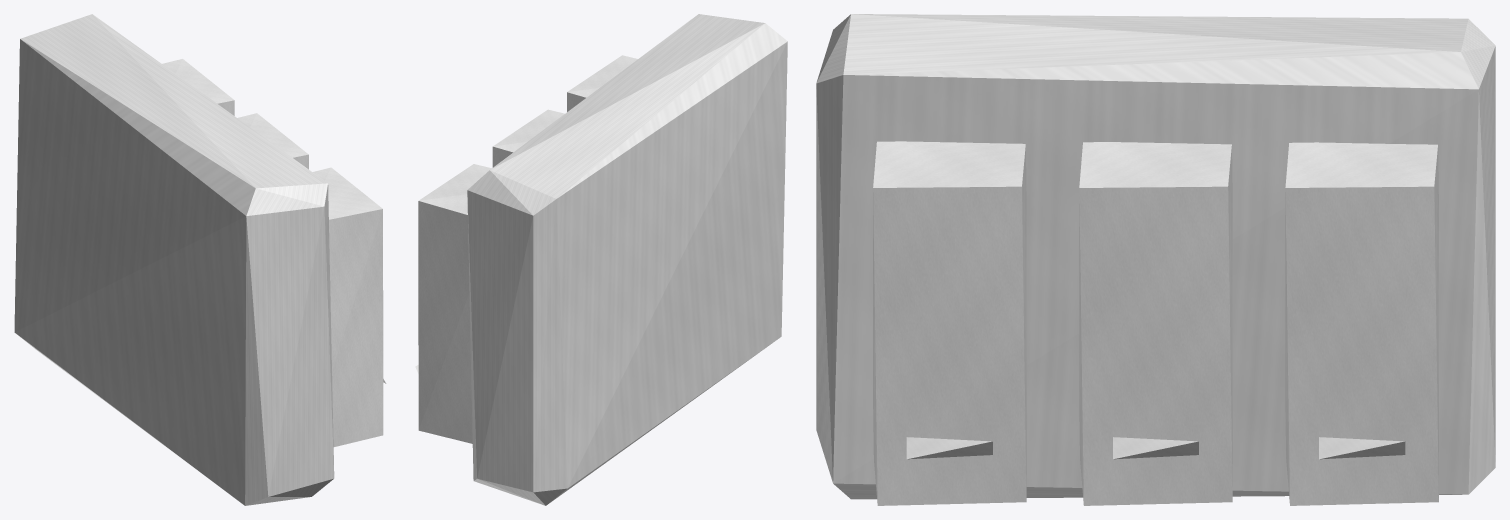
File: Field_Medic_Cartridge_Rack_LOD2.glb
3 renders of one model, left to right at view 1: azimuth 30°, elevation 25°; view 2: azimuth 150°, elevation 25°; view 3: azimuth 270°, elevation 25°, orthographic. The views are drawn at different scales.
Visible parts, largest first — view 1: Field_Medic_Cartridge_Rack_LOD2; view 2: Field_Medic_Cartridge_Rack_LOD2; view 3: Field_Medic_Cartridge_Rack_LOD2.
Boxes of the visible parts, box(x1,y1,x2,y2) form: Field_Medic_Cartridge_Rack_LOD2: box(14, 14, 386, 505); Field_Medic_Cartridge_Rack_LOD2: box(415, 14, 787, 505); Field_Medic_Cartridge_Rack_LOD2: box(816, 14, 1495, 505).
Size of the model in its own units: 0.0953 by 0.17 by 0.234.
3 materials, 3 textured.
